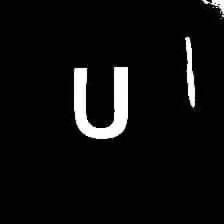LTR_U: (69, 61, 135, 140)
